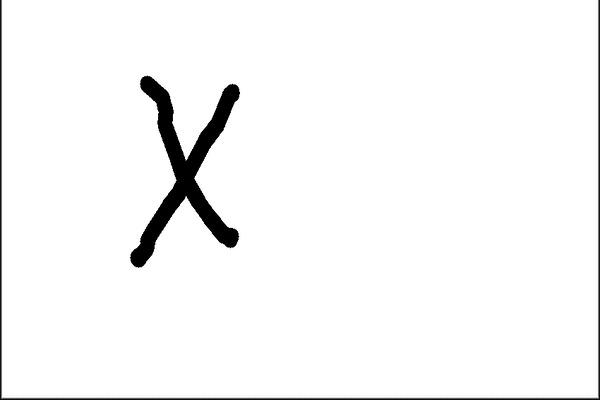X: (102, 68, 282, 272)
